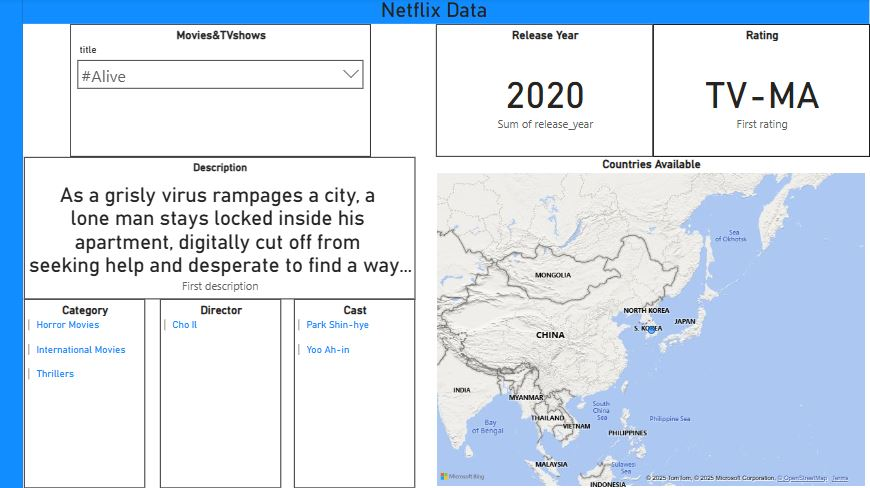

What the dashboard file says about the page in this screenshot:
{"tool":"powerbi","page":{"name":"Single-Title-View","canvas":[1280,720],"ordinal":1},"visuals":[{"type":"multiRowCard","title":"Cast","fields":{"Values":["netflix_data netflix_cast.cast"]},"box":[433.5,442.3,177.8,277.7],"z":0},{"type":"card","title":"Rating","fields":{"Values":["netflix_data titles.rating"]},"box":[961,38.2,318.9,195.4],"z":1000},{"type":"map","title":"Countries Available","fields":{"Category":["netflix_data countries_released.country"],"Size":["netflix_data countries_released.show_id"]},"box":[639.2,233.6,639.2,489.3],"z":3000},{"type":"shape","title":"Netflix Data","box":[0,0,1279.2,37.5],"z":4000},{"type":"shape","box":[0,0,35.3,721.5],"z":5000},{"type":"card","title":"Release Year","fields":{"Values":["netflix_data titles.release_year"]},"box":[642.1,38.2,318.9,195.4],"z":5001},{"type":"slicer","title":"Movies&TVshows","fields":{"Values":["netflix_data titles.title"]},"box":[104.3,38.2,442.3,195.4],"z":5002},{"type":"multiRowCard","title":"Director","fields":{"Values":["netflix_data netflix_directors.director"]},"box":[236.6,442.3,177.8,277.7],"z":5003},{"type":"multiRowCard","title":"Category","fields":{"Values":["netflix_data netflix_listed_in.category"]},"box":[36.7,442.3,177.8,277.7],"z":5004},{"type":"card","title":"Description","fields":{"Values":["netflix_data description.description"]},"box":[36.7,233.6,574.5,208.7],"z":5005}]}

Visuals, with their boxes in screenshot pixels (x1, y1, x2, y2), scaled from the page's 1280x720 canvas onto the 870x488 screenshot:
"Cast" multiRowCard: bbox=(295, 300, 415, 487)
"Rating" card: bbox=(653, 26, 869, 158)
"Countries Available" map: bbox=(434, 158, 869, 487)
"Netflix Data" shape: bbox=(0, 0, 869, 25)
shape: bbox=(0, 0, 24, 487)
"Release Year" card: bbox=(436, 26, 653, 158)
"Movies&TVshows" slicer: bbox=(71, 26, 372, 158)
"Director" multiRowCard: bbox=(161, 300, 282, 487)
"Category" multiRowCard: bbox=(25, 300, 146, 487)
"Description" card: bbox=(25, 158, 415, 300)
